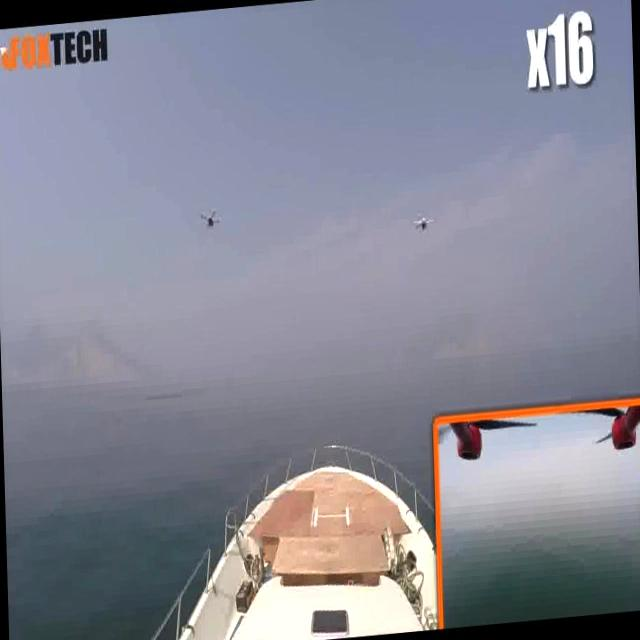drone: (410, 208, 436, 236), (196, 204, 222, 232)
